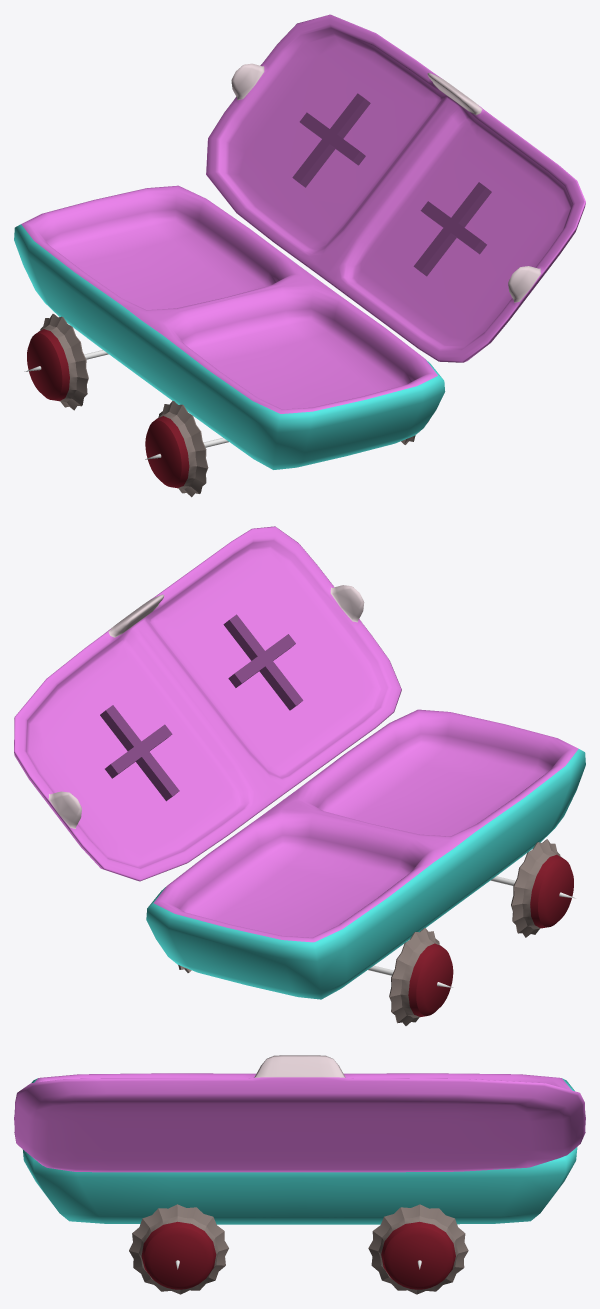
The model's file is Suma.fbx.
The picture shows the model from 3 angles, top to bottom: view 1: azimuth 30°, elevation 25°; view 2: azimuth 150°, elevation 25°; view 3: azimuth 270°, elevation 25°; orthographic projection.
Parts seen in each view (by area): view 1: carmanyola, ruedas, suma; view 2: carmanyola, ruedas, suma; view 3: carmanyola, ruedas.
Part boxes in pixels (x1,y1,x2,y2): carmanyola: [14, 14, 585, 469]; ruedas: [27, 314, 429, 497]; suma: [292, 93, 491, 276]; carmanyola: [14, 526, 585, 999]; ruedas: [178, 839, 573, 1025]; suma: [100, 614, 303, 801]; carmanyola: [14, 1055, 585, 1224]; ruedas: [129, 1204, 468, 1294].
Size of the model in its own units: 2390 by 1723 by 3070.
